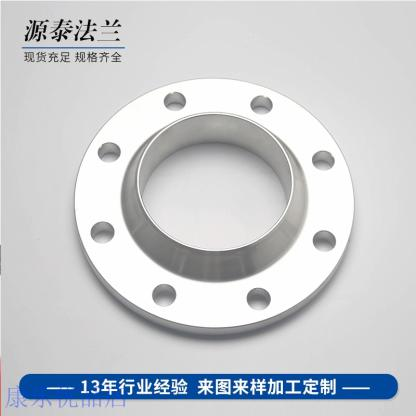FOD: (73, 75, 358, 340)
